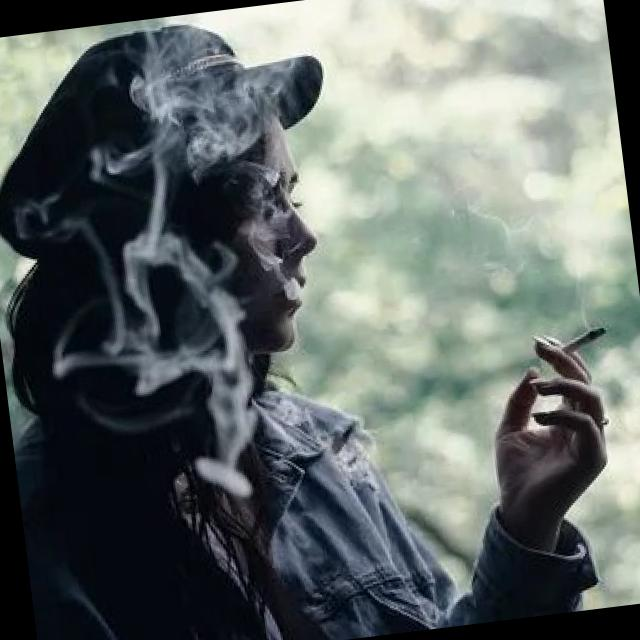smoke: (546, 317, 613, 366)
